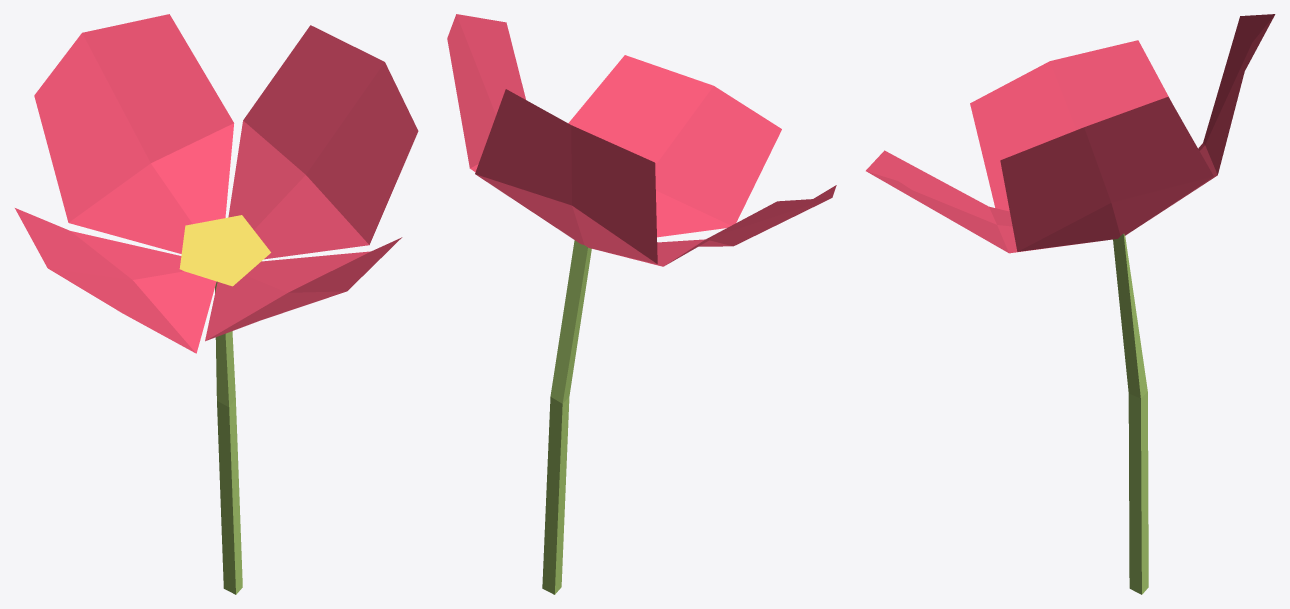
Rendered from Flower_c_OneS_05.fbx.
3 renders of one model, left to right at view 1: azimuth 30°, elevation 25°; view 2: azimuth 150°, elevation 25°; view 3: azimuth 270°, elevation 25°, orthographic.
Parts seen in each view (by area): view 1: Flower_c_OneS_05; view 2: Flower_c_OneS_05; view 3: Flower_c_OneS_05.
Boxes of the visible parts, bbox=[...] form: Flower_c_OneS_05: bbox=[15, 14, 418, 594]; Flower_c_OneS_05: bbox=[447, 14, 836, 594]; Flower_c_OneS_05: bbox=[866, 14, 1275, 594].
Bounding box in the file's own units: 25.68 × 37.25 × 25.49.
